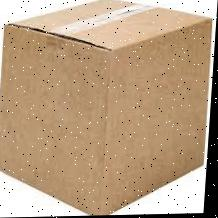cube: (0, 0, 216, 218)
